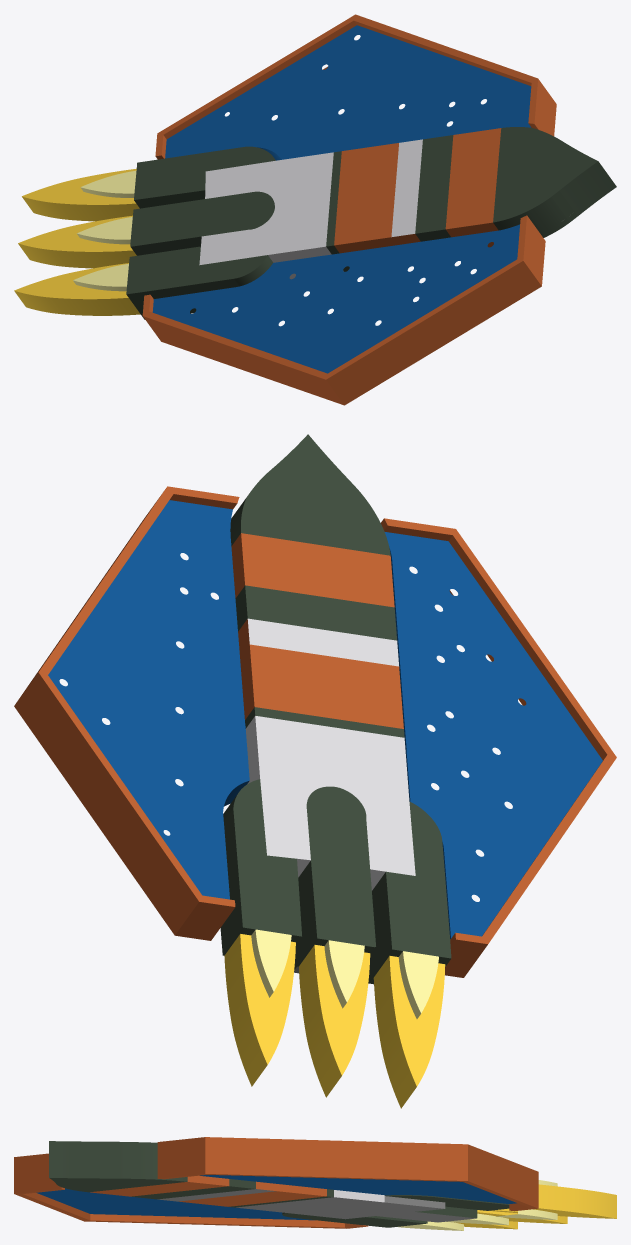
Rendered from Progress.gltf.
The picture shows the model from 3 angles, top to bottom: view 1: azimuth 30°, elevation 25°; view 2: azimuth 150°, elevation 25°; view 3: azimuth 270°, elevation 25°; orthographic projection. The views are drawn at different scales.
Visible parts, largest first — view 1: root; view 2: root; view 3: root.
Boxes of the visible parts, <box> form: root: <box>14,14,616,405</box>; root: <box>14,434,616,1108</box>; root: <box>14,1137,616,1230</box>.
Bounding box in the file's own units: 0.7896 × 0.5364 × 1.17.
